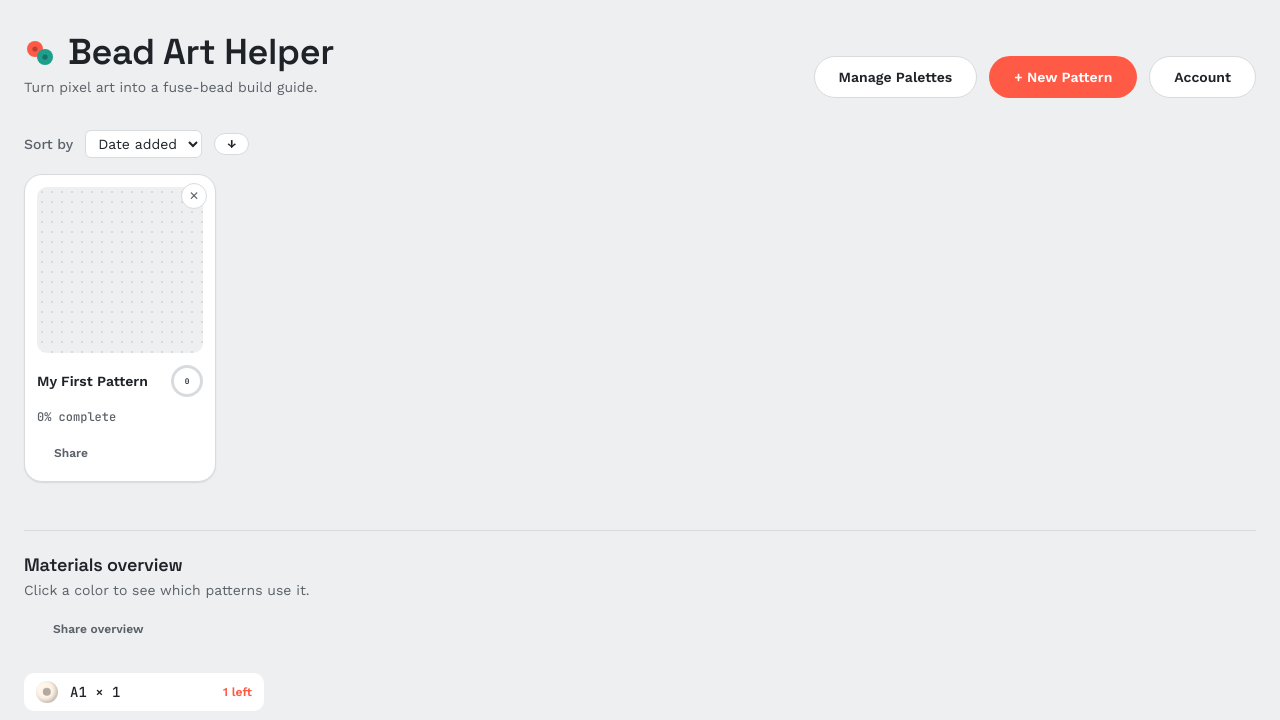
publishes the materials overview when share overview is clicked
Click the button "Share overview": (98, 629) [36,613,160,645]
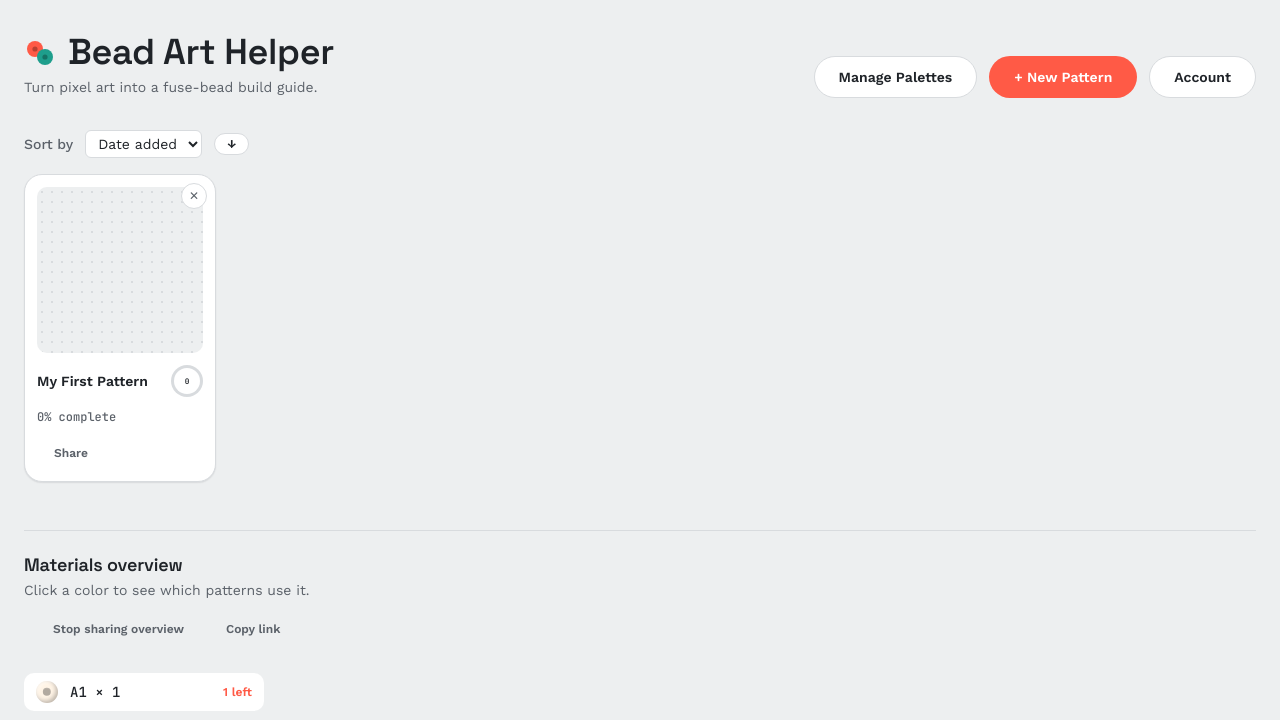
Check: the button "Stop sharing overview" is shown, box [36,613,201,645]
